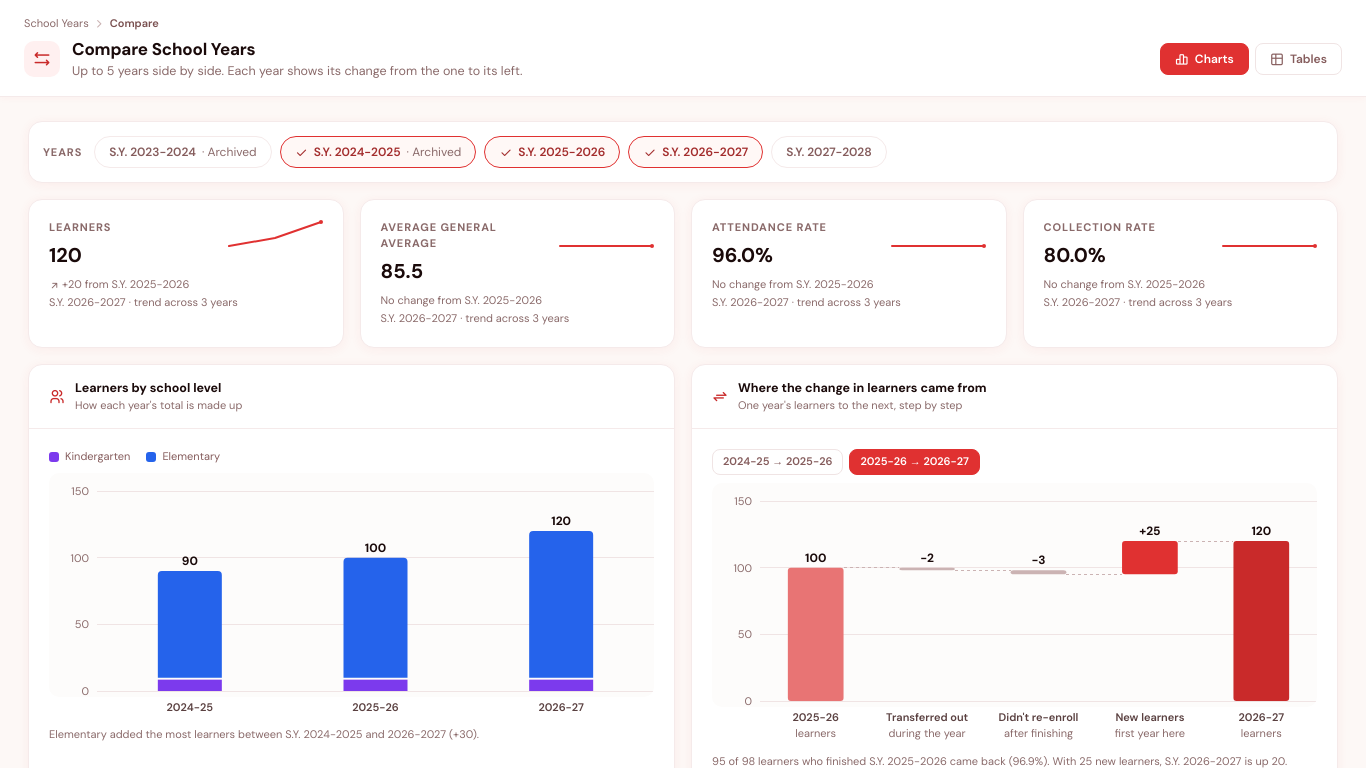
Scenario: SchoolYearComparePage — charts › opens on the charts, and the view switch swaps in the tables
The image size is (1366, 768).
Expected: the text "Elementary added the most learners between S.Y. 2024-2025 and 2026-2027 (+30)." is shown, x1=49 y1=727 x2=479 y2=741
What coordinates should you click on to do the following:
click the button "Tables"
I would click on:
 (1298, 59)
Its box is x1=1255 y1=43 x2=1342 y2=75.
(page scrolled)
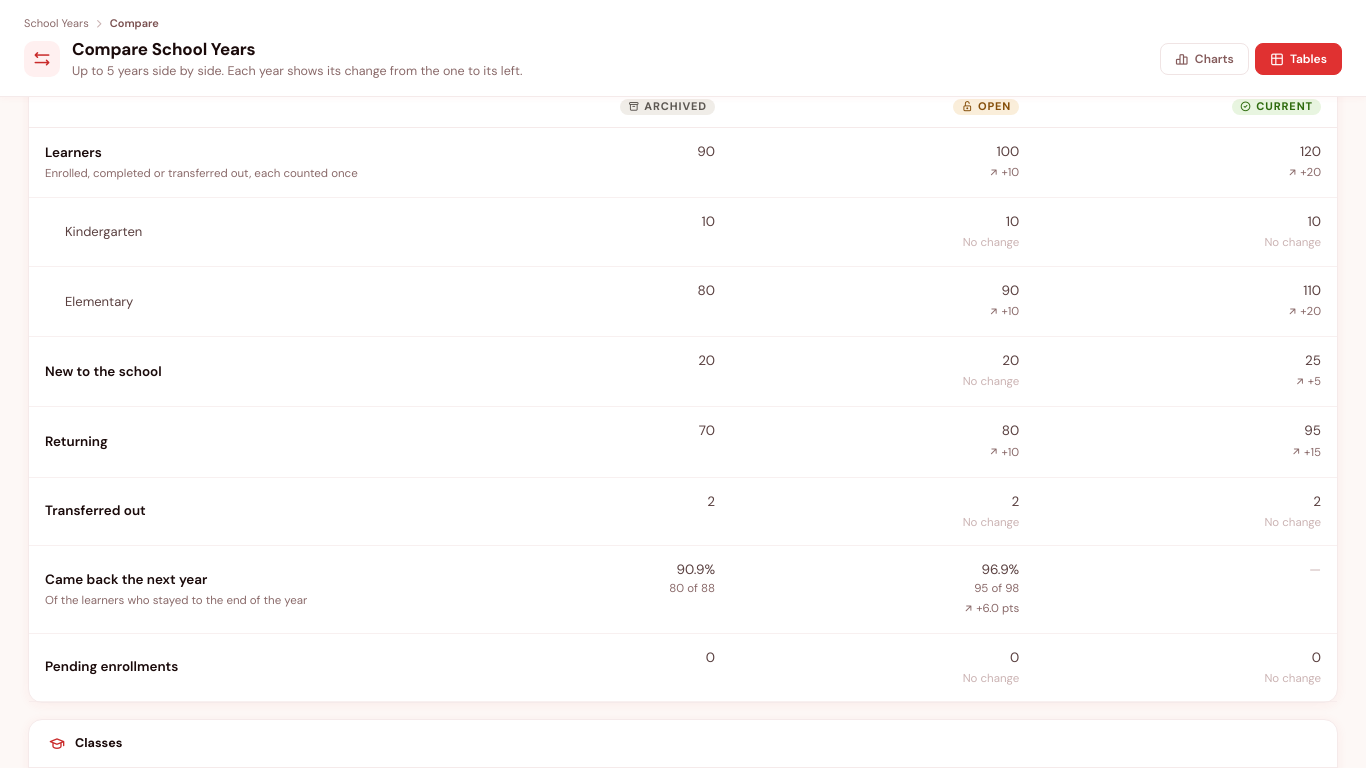
Now the table named "Learners by year" is shown
Now the text "added the most learners" is gone
